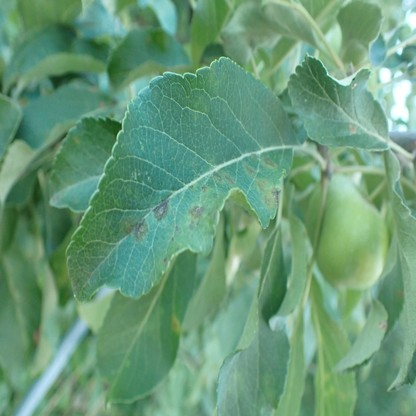scab: (122, 154, 281, 263), (262, 371, 275, 411), (171, 315, 179, 330)
